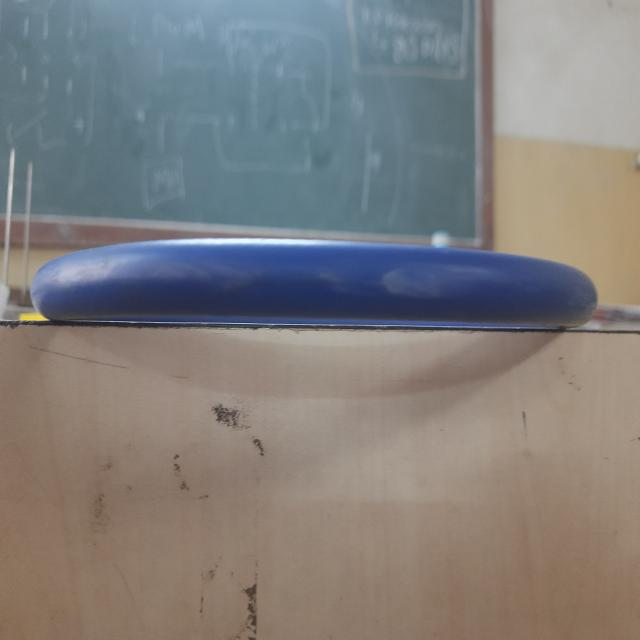daire: (34, 236, 602, 332)
